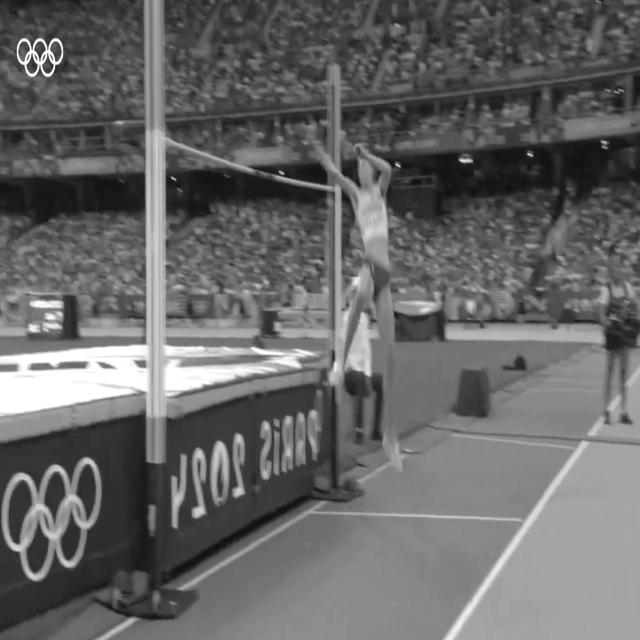jump: (311, 144, 401, 469)
